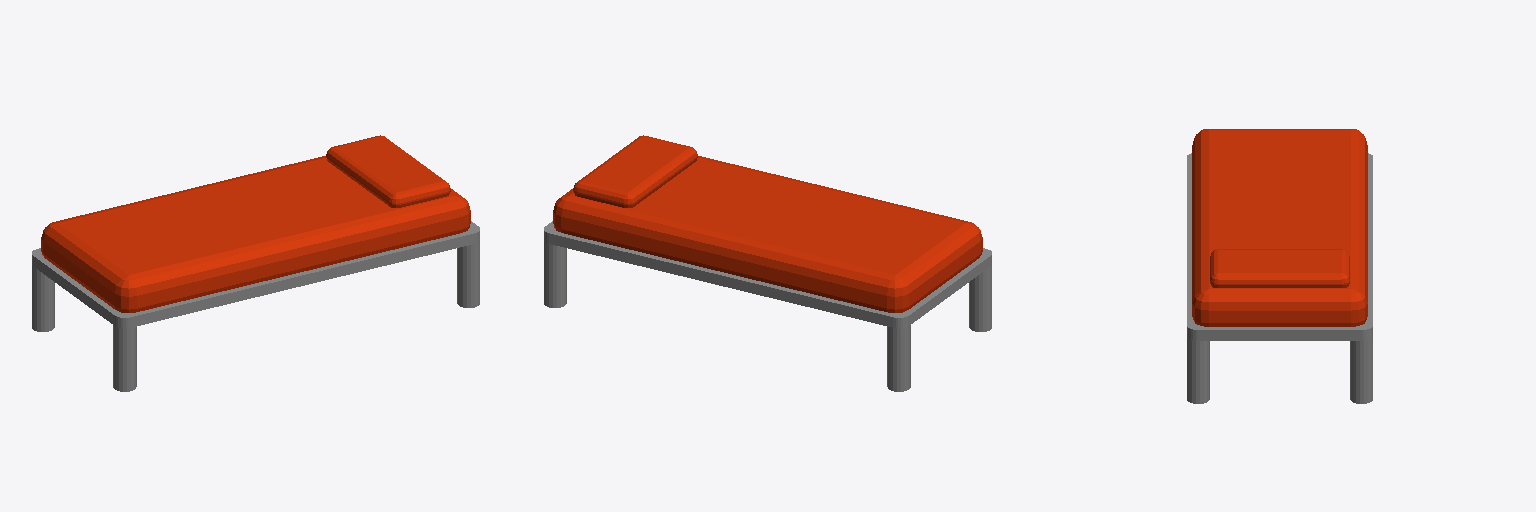
Rendered from Красная кушетка.obj.
3 renders of one model, left to right at view 1: azimuth 30°, elevation 25°; view 2: azimuth 150°, elevation 25°; view 3: azimuth 270°, elevation 25°, orthographic.
Parts seen in each view (by area): view 1: ChamferBox33_3, Rectangle10_1, ChamferBox32_2, Cylinder06_5, Cylinder07_6, Cylinder05_4; view 2: ChamferBox33_3, Rectangle10_1, ChamferBox32_2, Cylinder05_4, Cylinder08_7, Cylinder06_5; view 3: ChamferBox33_3, ChamferBox32_2, Rectangle10_1, Cylinder07_6, Cylinder08_7.
Part boxes in pixels (x1,y1,x2,y2): ChamferBox33_3: (41,156,470,312); Rectangle10_1: (32,221,479,328); ChamferBox32_2: (326,135,450,207); Cylinder06_5: (113,325,136,391); Cylinder07_6: (457,242,479,307); Cylinder05_4: (32,266,54,331); ChamferBox33_3: (553,156,982,312); Rectangle10_1: (544,221,991,328); ChamferBox32_2: (573,135,697,207); Cylinder05_4: (887,325,910,391); Cylinder08_7: (544,242,566,307); Cylinder06_5: (969,266,991,331); ChamferBox33_3: (1192,129,1367,326); ChamferBox32_2: (1210,249,1349,287); Rectangle10_1: (1187,153,1372,340); Cylinder07_6: (1187,338,1209,403); Cylinder08_7: (1350,338,1372,403).
Bounding box in the file's own units: 180 × 56.01 × 80.